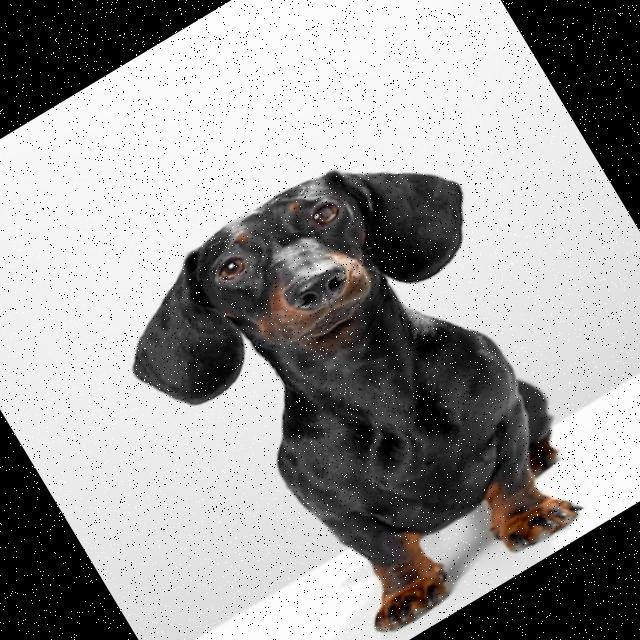Dog: (89, 106, 640, 640)
